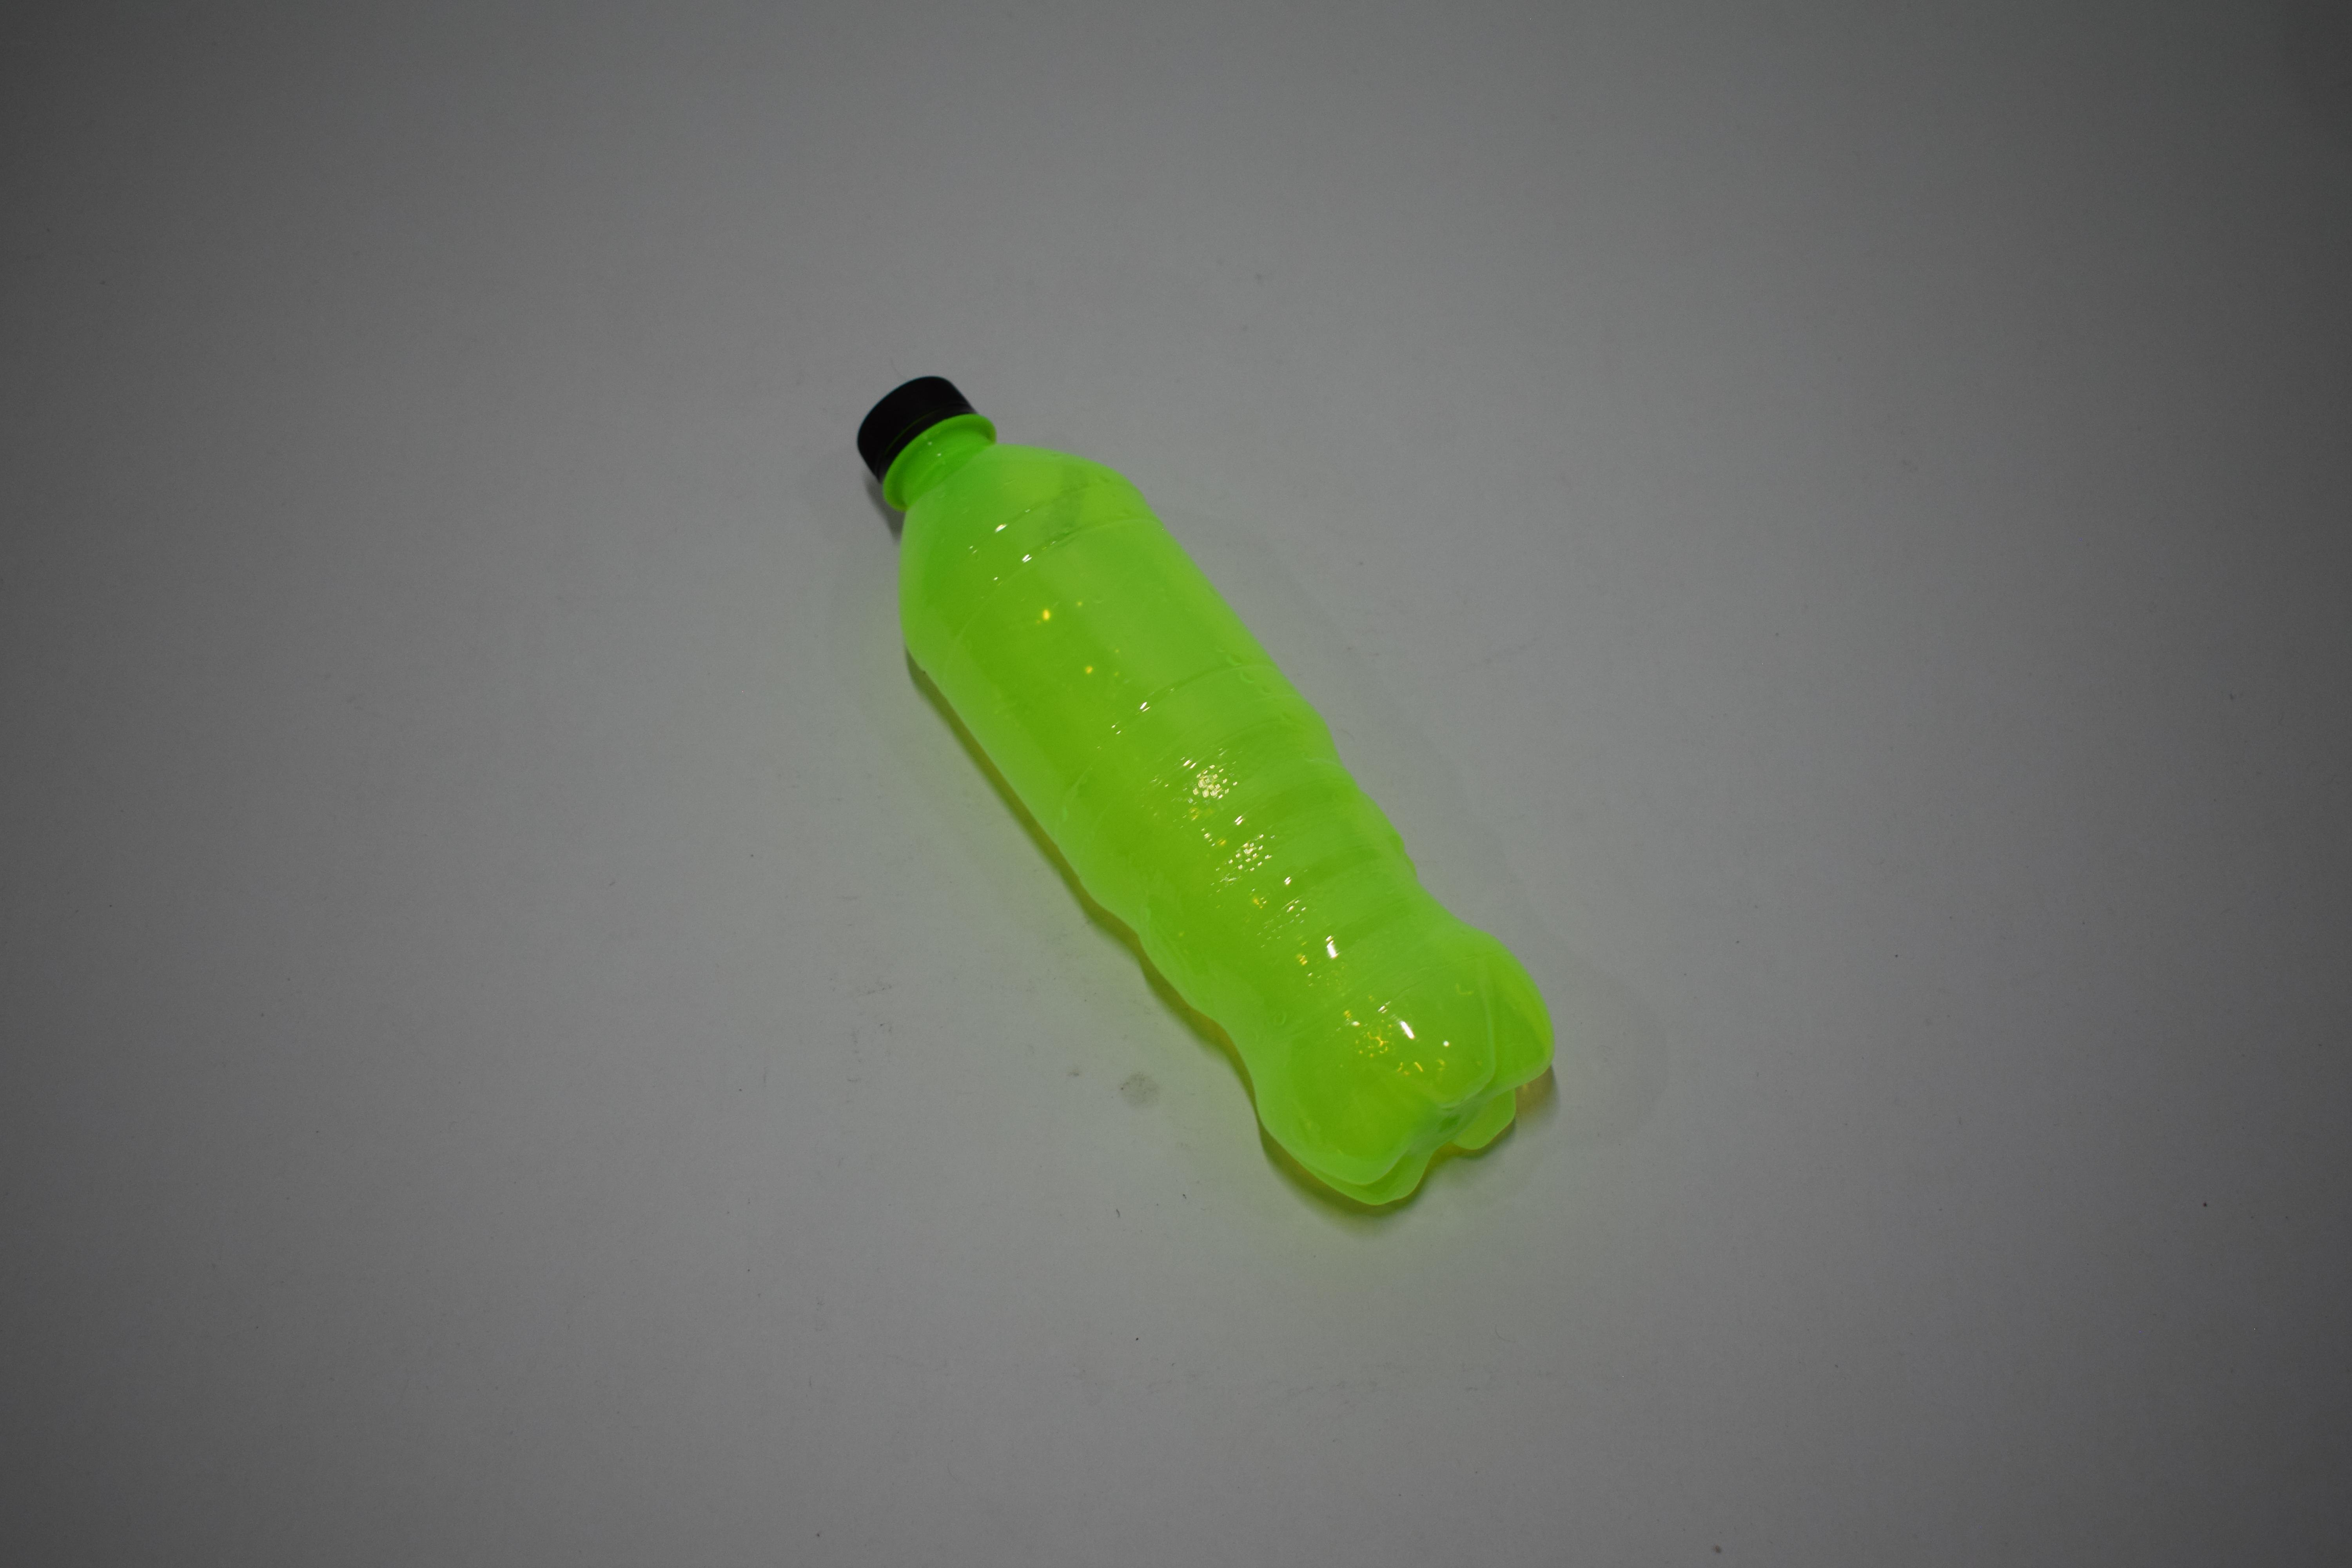bottle: (0, 0, 388, 47)
